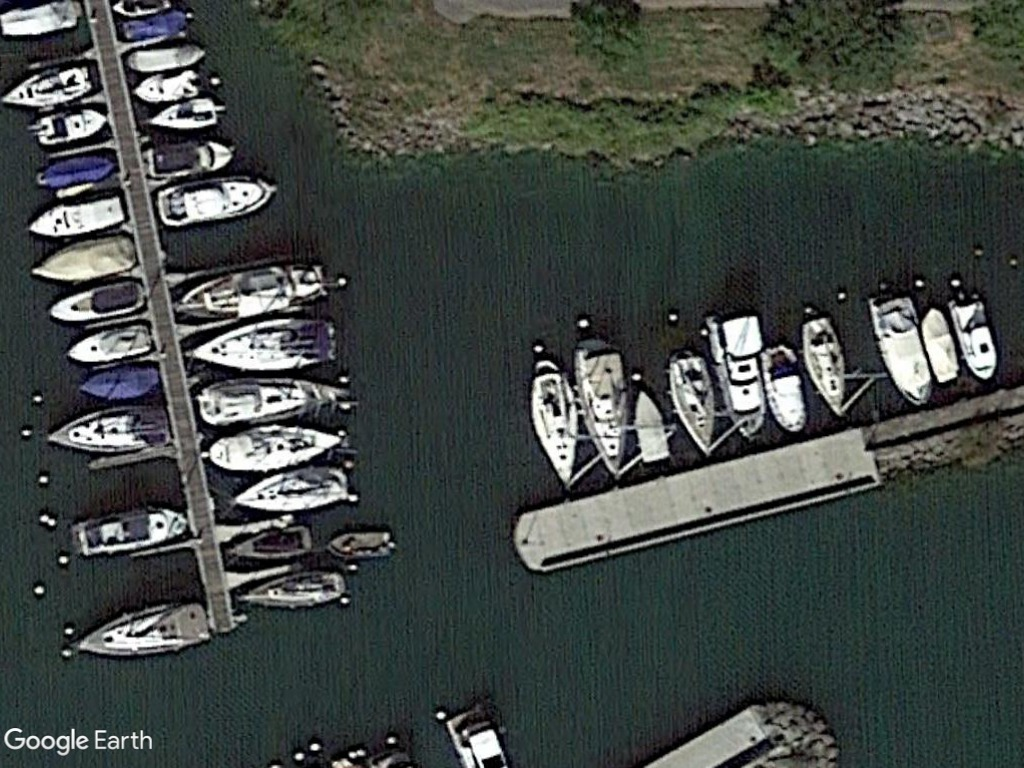boat: (194, 370, 350, 432), (175, 259, 330, 321), (72, 598, 211, 666), (705, 311, 773, 448), (186, 312, 338, 373), (523, 351, 584, 492), (865, 293, 934, 410), (574, 340, 633, 475), (69, 501, 186, 564), (205, 423, 355, 472), (39, 404, 172, 458), (229, 461, 350, 518), (154, 172, 278, 227), (24, 233, 138, 291), (796, 310, 852, 422), (46, 272, 154, 329), (666, 348, 722, 457), (20, 190, 130, 241), (236, 564, 347, 613), (0, 58, 100, 111), (945, 292, 1000, 382), (760, 343, 811, 437), (62, 320, 155, 367), (144, 138, 237, 184), (225, 524, 316, 567), (31, 150, 121, 192), (78, 361, 161, 406), (629, 384, 671, 471), (28, 105, 109, 148), (919, 305, 962, 385), (133, 64, 209, 107), (147, 96, 227, 134), (326, 525, 396, 565), (122, 43, 208, 72)
